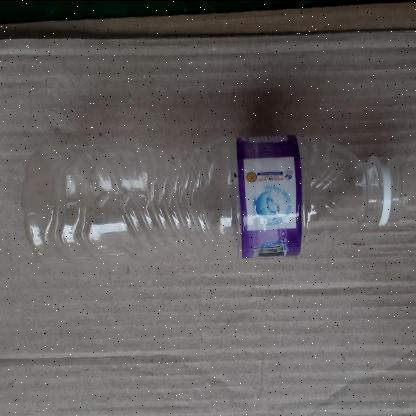Plastic Bottle: (20, 134, 412, 264)
